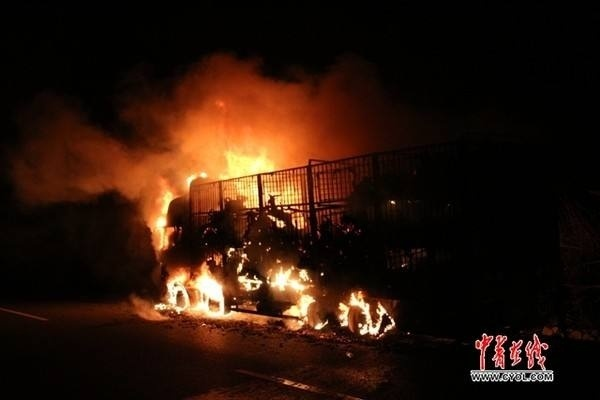fire: (146, 143, 387, 333)
